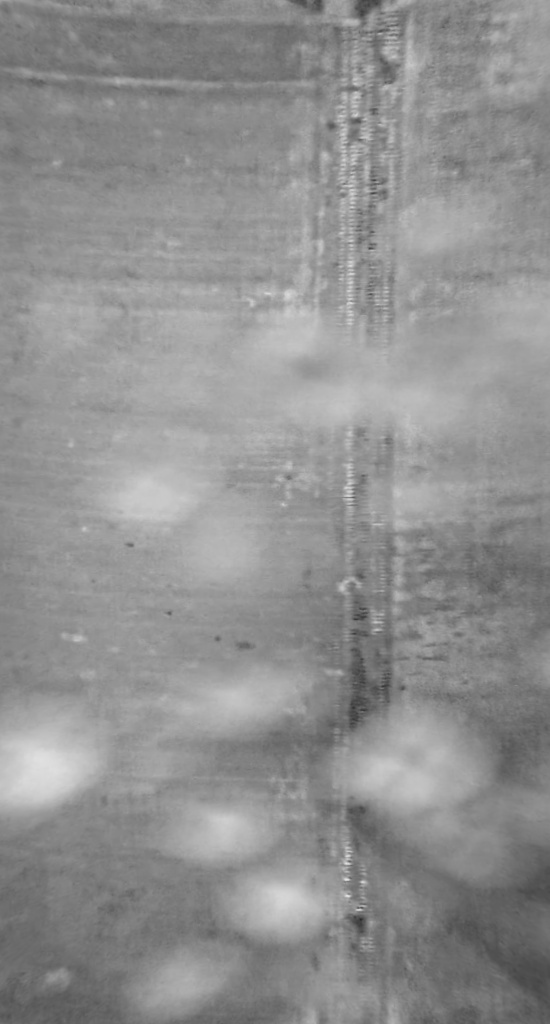splice: (318, 1, 415, 1022)
